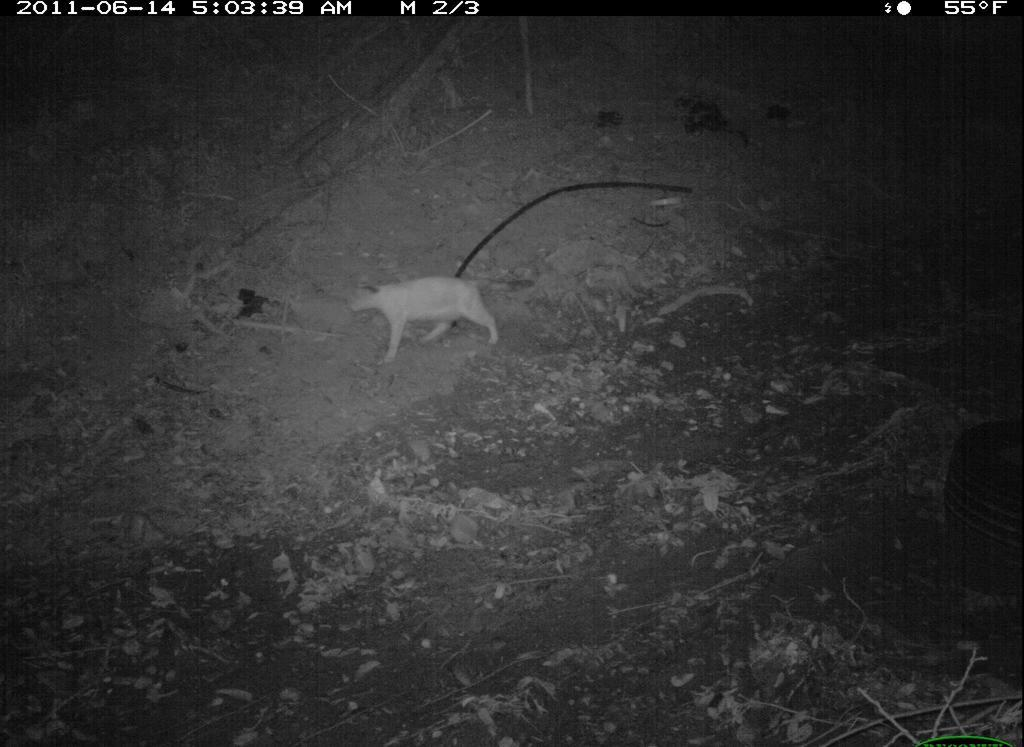cat: (340, 271, 515, 369)
